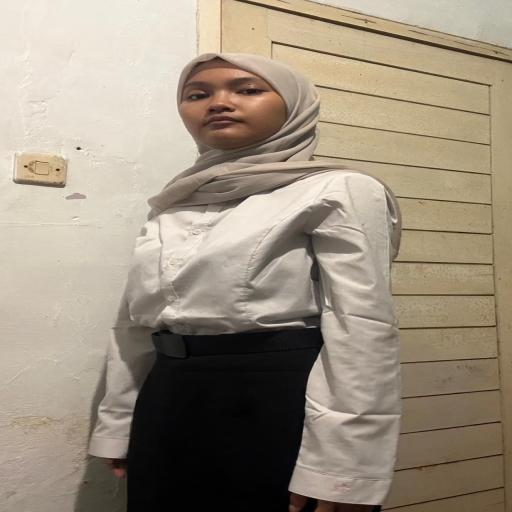kemeja_benar: (105, 178, 408, 335)
kerudung_salah: (140, 48, 340, 196)
rok_benar: (130, 360, 400, 512)
sabuk_ada: (133, 330, 329, 358)
